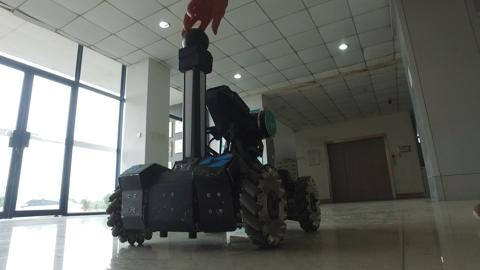chariot: (82, 27, 334, 258)
